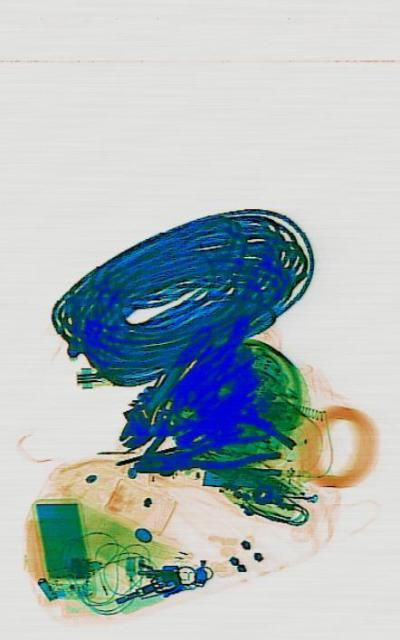Pliers: (131, 424, 279, 482)
Wrench: (110, 308, 220, 460)
